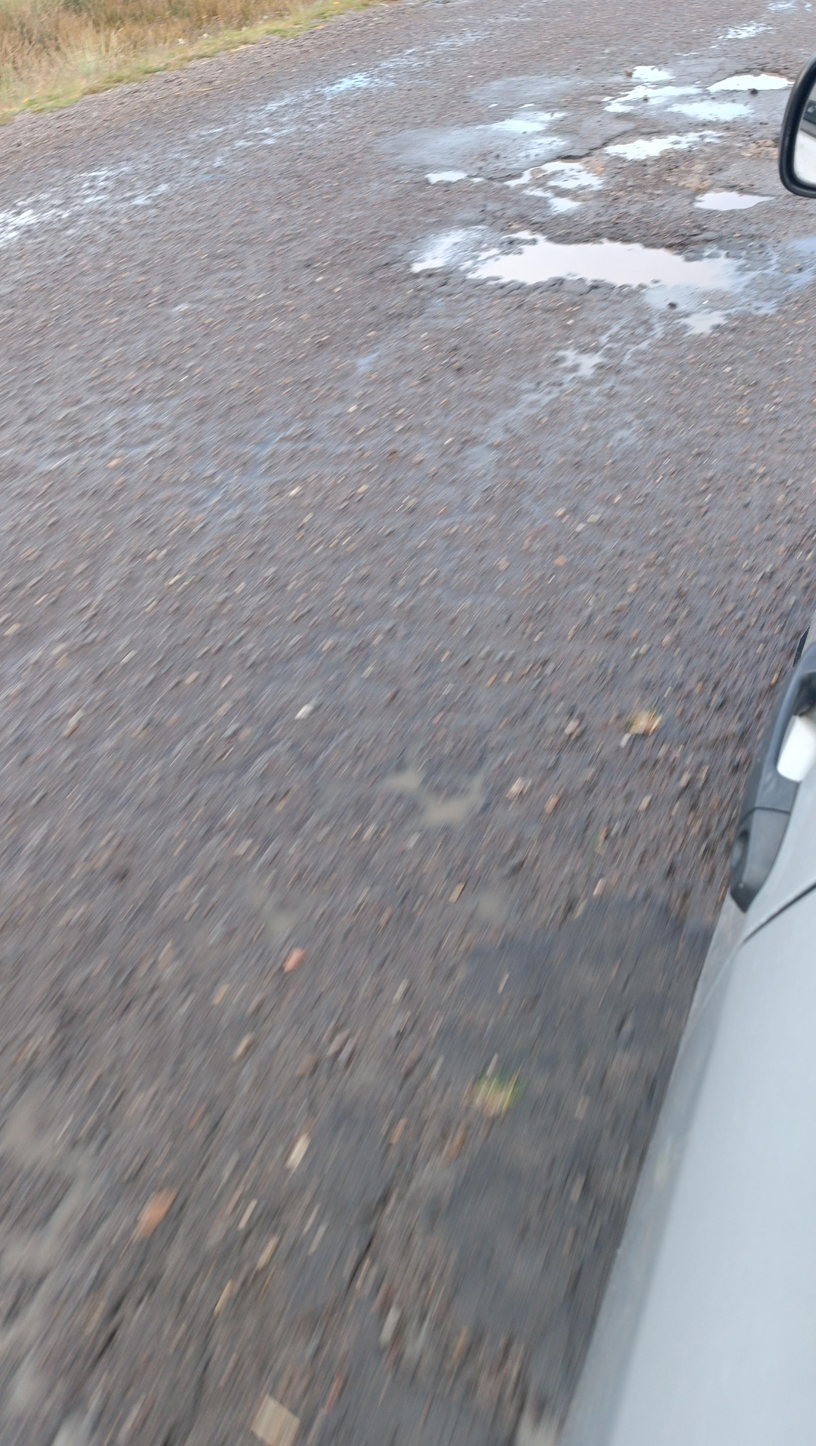BACHE: (409, 225, 761, 289), (496, 157, 601, 213), (609, 131, 719, 159), (610, 84, 699, 111), (708, 68, 791, 91), (695, 189, 780, 210), (487, 111, 564, 128)
PARCHE: (450, 900, 701, 1395)
